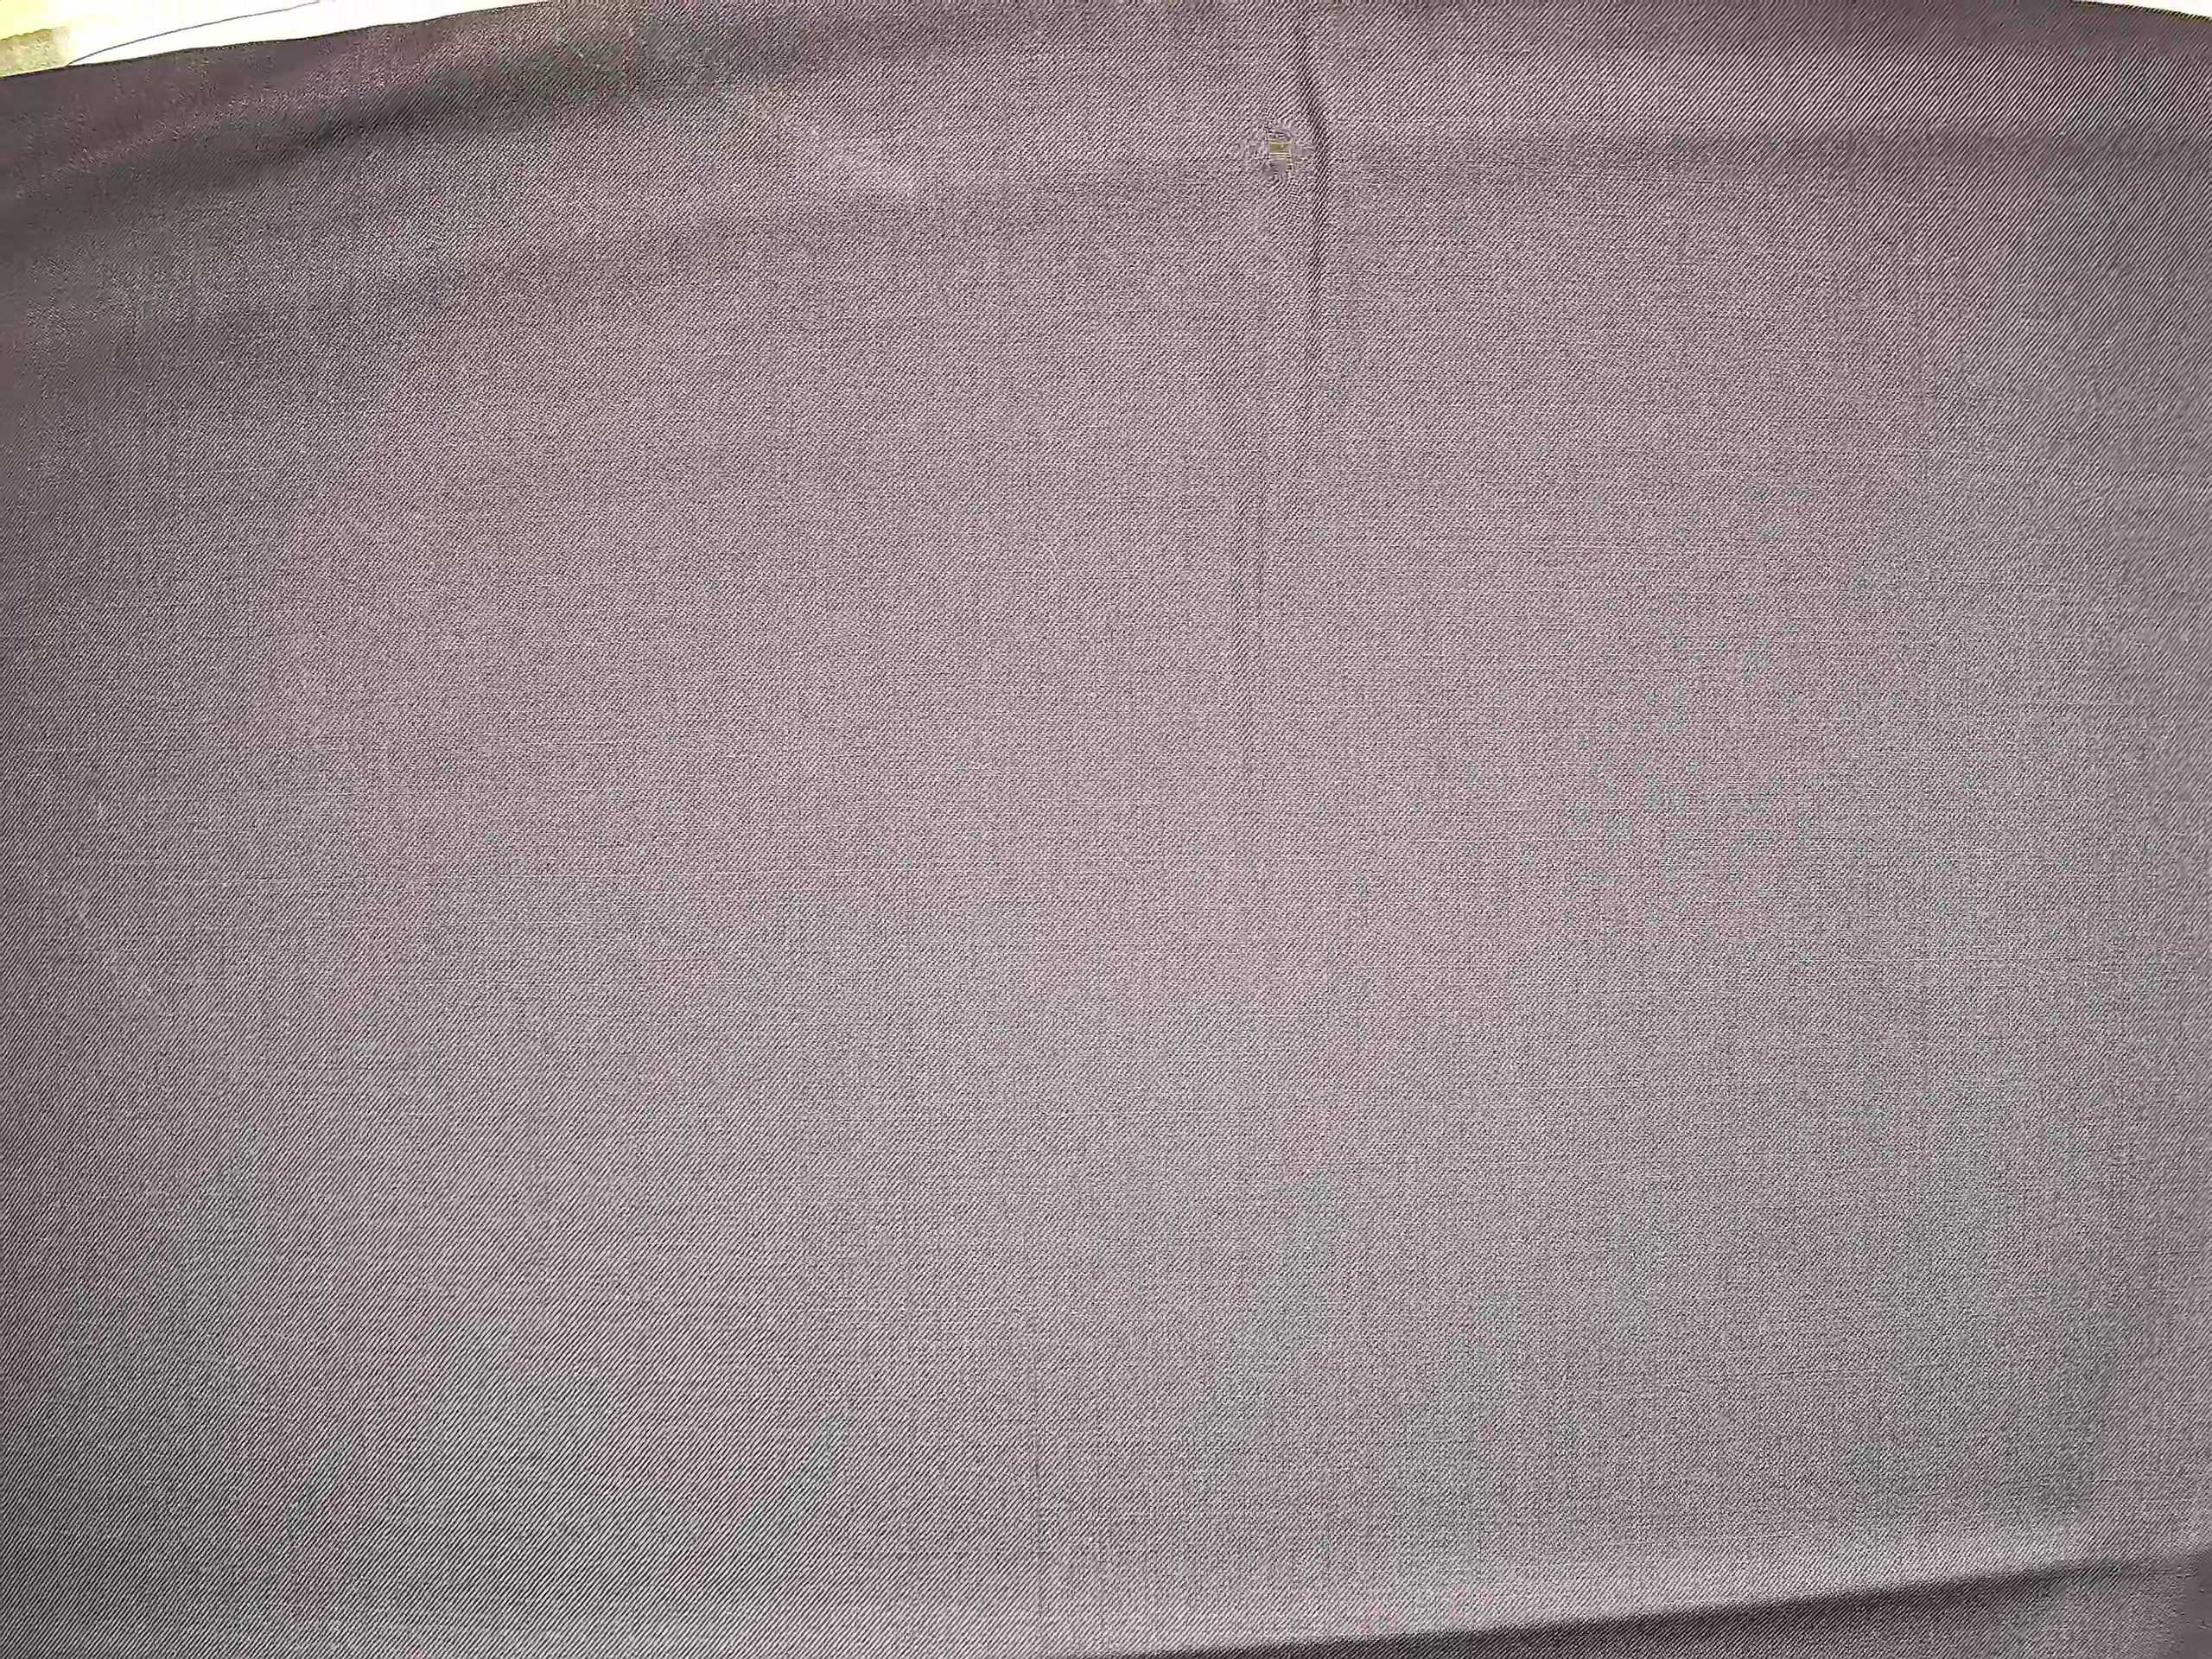rubbing-hole: (1219, 101, 1322, 202)
